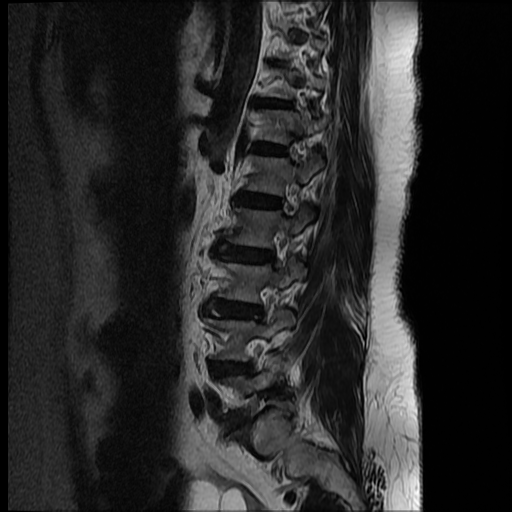LFS0: (257, 222, 295, 274), (274, 170, 305, 222)
